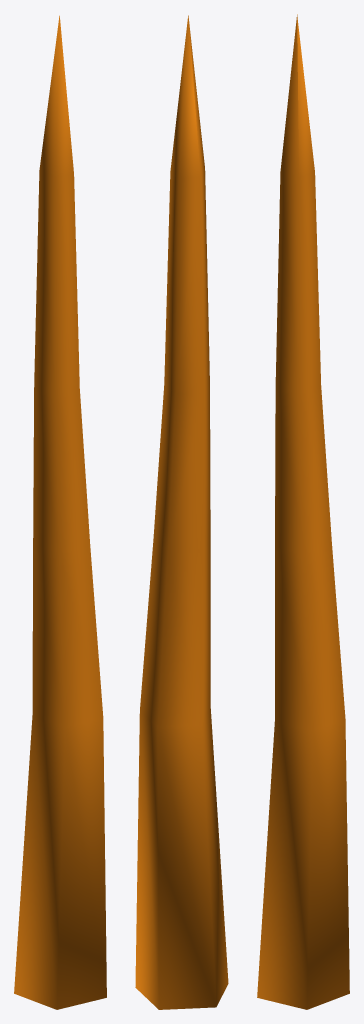
The model's file is Log 1.fbx.
The picture shows the model from 3 angles, left to right: view 1: azimuth 30°, elevation 25°; view 2: azimuth 150°, elevation 25°; view 3: azimuth 330°, elevation 25°; orthographic projection.
Parts seen in each view (by area): view 1: Tree.001; view 2: Tree.001; view 3: Tree.001.
Part boxes in pixels (left/top/right/bottom): Tree.001: left=14, top=15, right=106, bottom=1009; Tree.001: left=135, top=15, right=228, bottom=1009; Tree.001: left=257, top=14, right=349, bottom=1009.
Size of the model in its own units: 139 by 1602 by 132.
